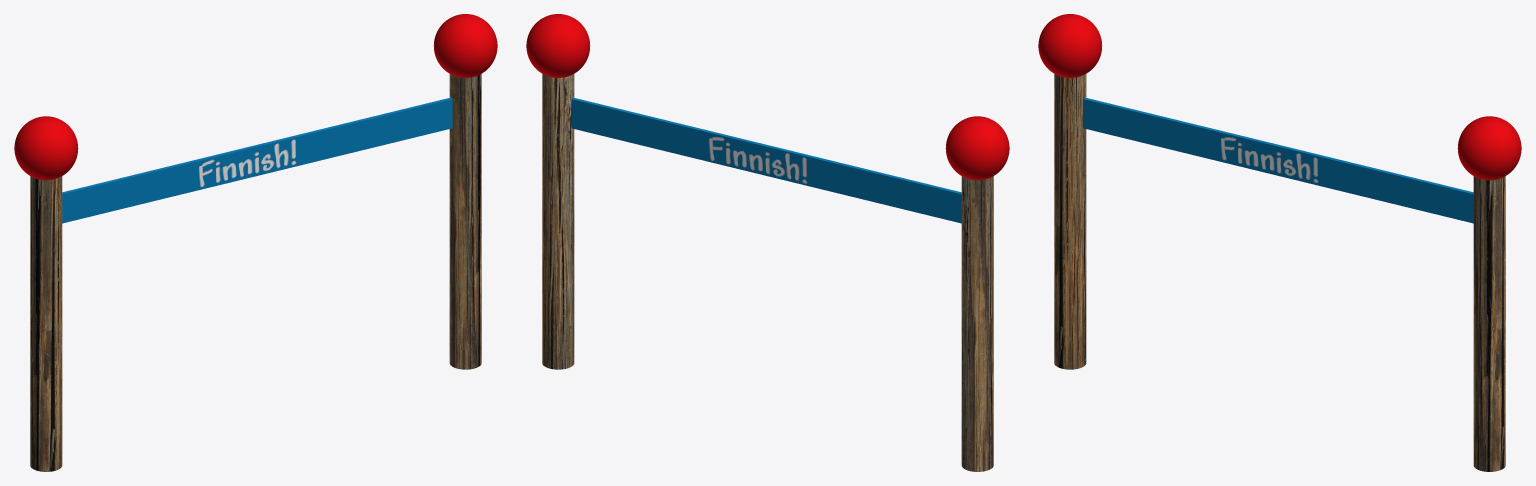
File: banner.fbx
3 renders of one model, left to right at view 1: azimuth 30°, elevation 25°; view 2: azimuth 150°, elevation 25°; view 3: azimuth 330°, elevation 25°, orthographic.
Parts seen in each view (by area): view 1: Plank, Cylinder, Cylinder.001, Sphere, Sphere.001; view 2: Plank, Cylinder, Cylinder.001, Sphere, Sphere.001; view 3: Plank, Cylinder.001, Cylinder, Sphere.001, Sphere.
Boxes of the visible parts, x1,y1,x2,y2 form: Plank: (62,97,452,223); Cylinder: (30,176,62,471); Cylinder.001: (449,74,481,369); Sphere: (14,116,78,180); Sphere.001: (433,14,497,77); Plank: (571,97,961,223); Cylinder: (961,176,993,471); Cylinder.001: (542,74,574,369); Sphere: (945,116,1009,180); Sphere.001: (526,14,590,77); Plank: (1083,97,1473,223); Cylinder.001: (1473,176,1505,471); Cylinder: (1054,74,1086,369); Sphere.001: (1457,116,1521,180); Sphere: (1038,14,1102,77).
Bounding box in the file's own units: 339 × 237 × 39.49.
Materials: 4 (3 with a texture image).
